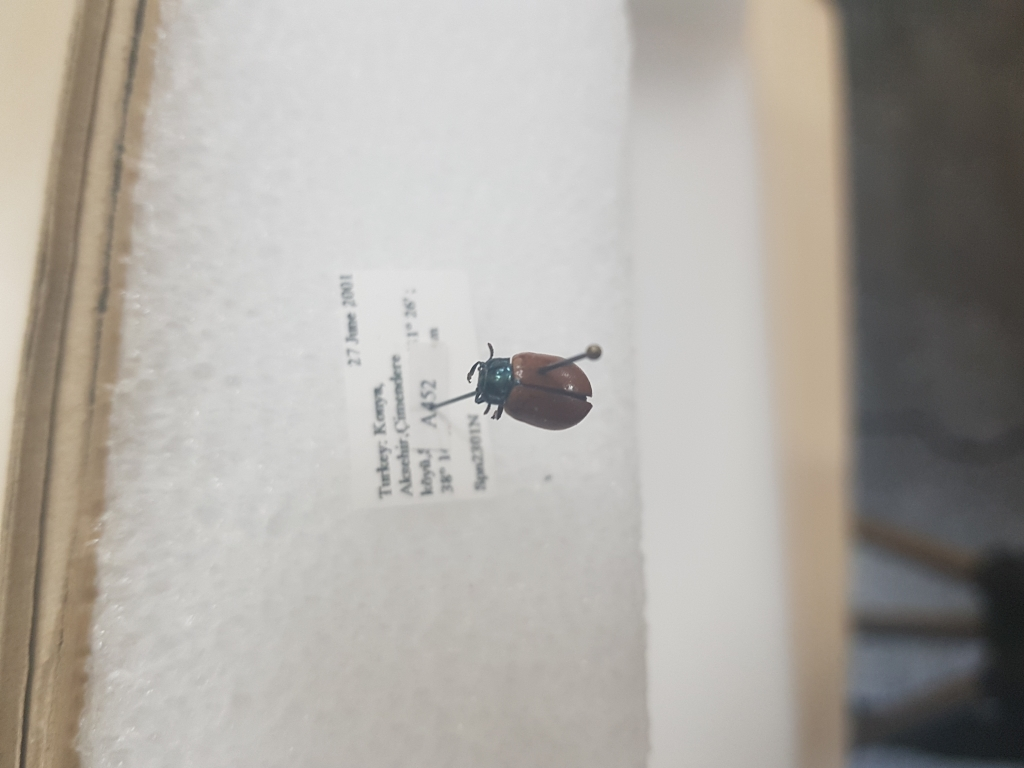Chrysomela_populi: (465, 343, 596, 430)
